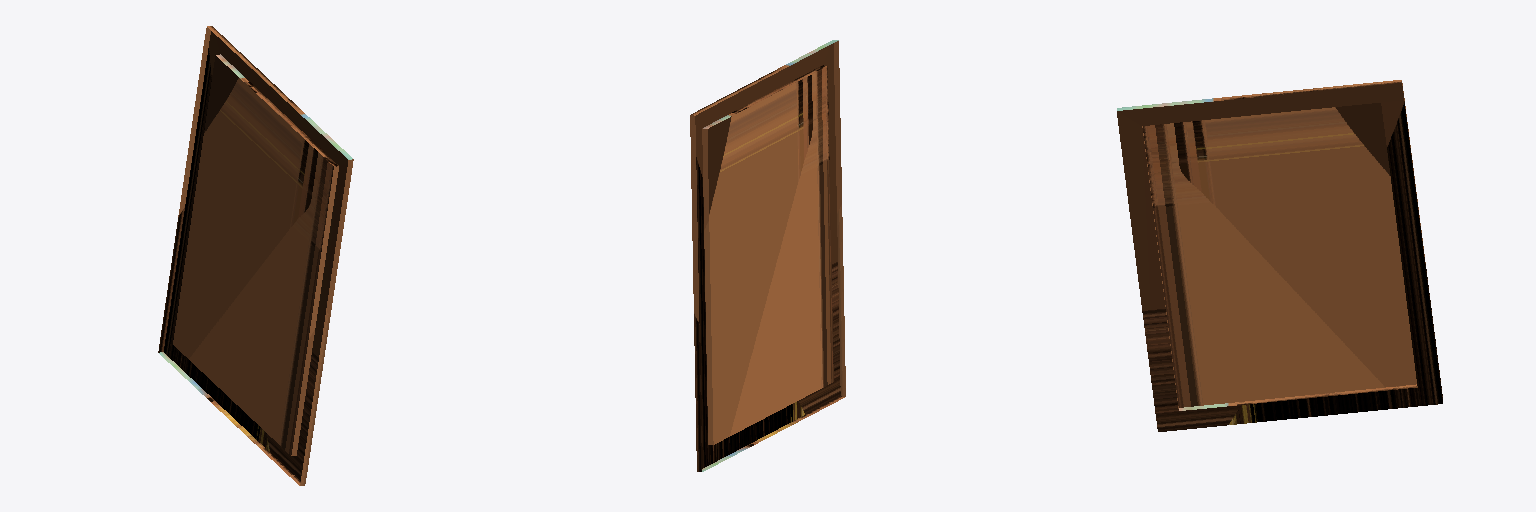
The picture shows the model from 3 angles: view 1: azimuth 30°, elevation 25°; view 2: azimuth 150°, elevation 25°; view 3: azimuth 270°, elevation 25°; orthographic projection.
Visible parts, largest first — view 1: Plane.004; view 2: Plane.004; view 3: Plane.004.
Boxes of the visible parts, x1,y1,x2,y2 form: Plane.004: [158, 26, 353, 485]; Plane.004: [690, 40, 845, 471]; Plane.004: [1117, 80, 1442, 431].
Size of the model in its own units: 0.0616 by 0.6282 by 0.511.
Materials: 1 (1 with a texture image).